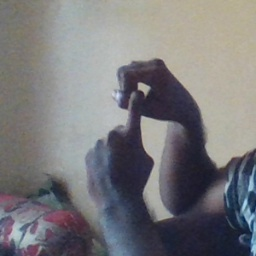Q: (83, 52, 189, 179)
